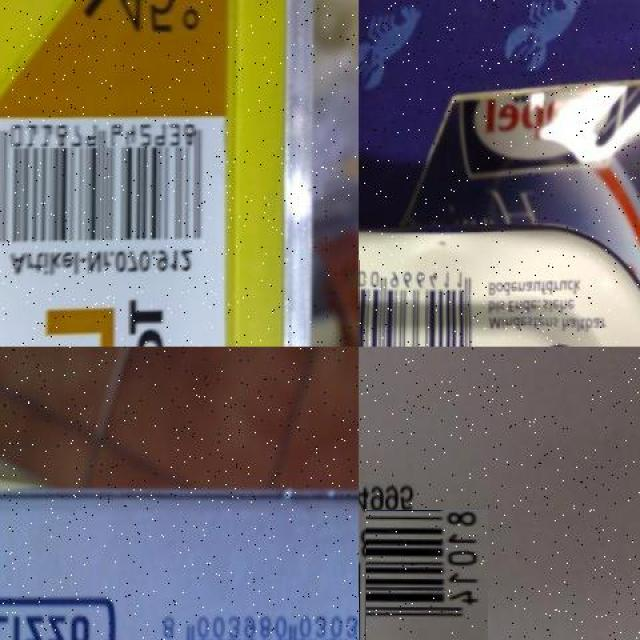Barcode: (0, 116, 222, 254), (363, 514, 493, 640), (358, 260, 482, 347), (150, 597, 358, 640)
